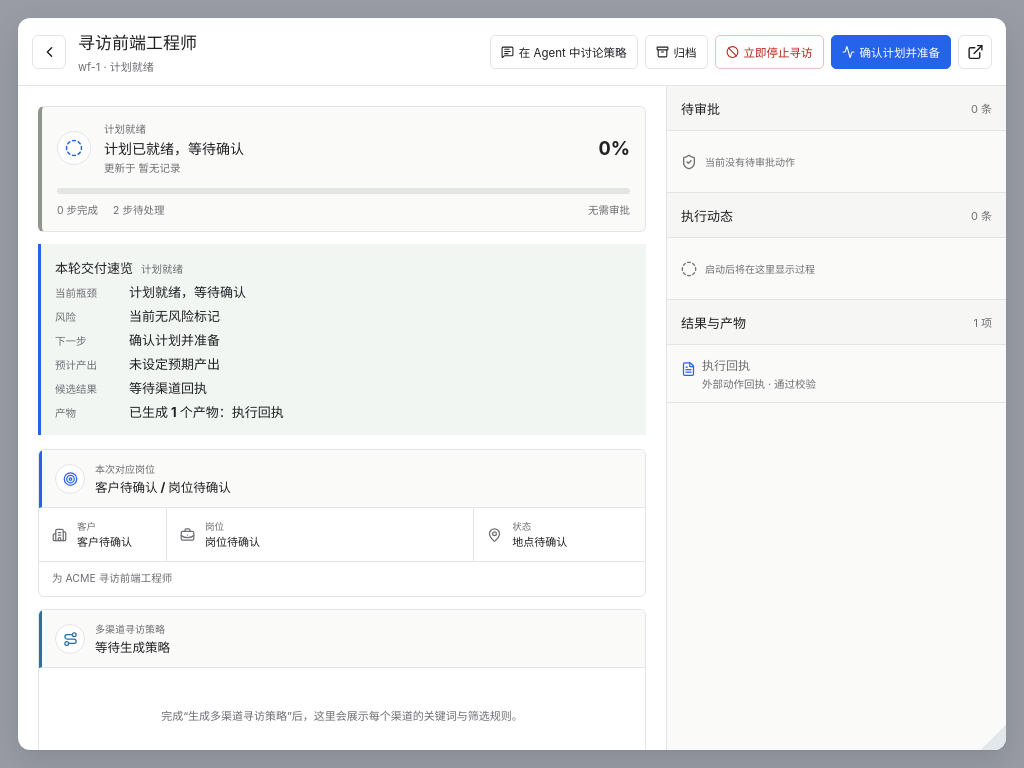
工作流产物查看 › 产物读取失败时显示站内错误回执
The width and height of the screenshot is (1024, 768).
Click the button with aria-label "查看产物：执行回执" at {"x": 726, "y": 366}, box [667,345,1006,403]
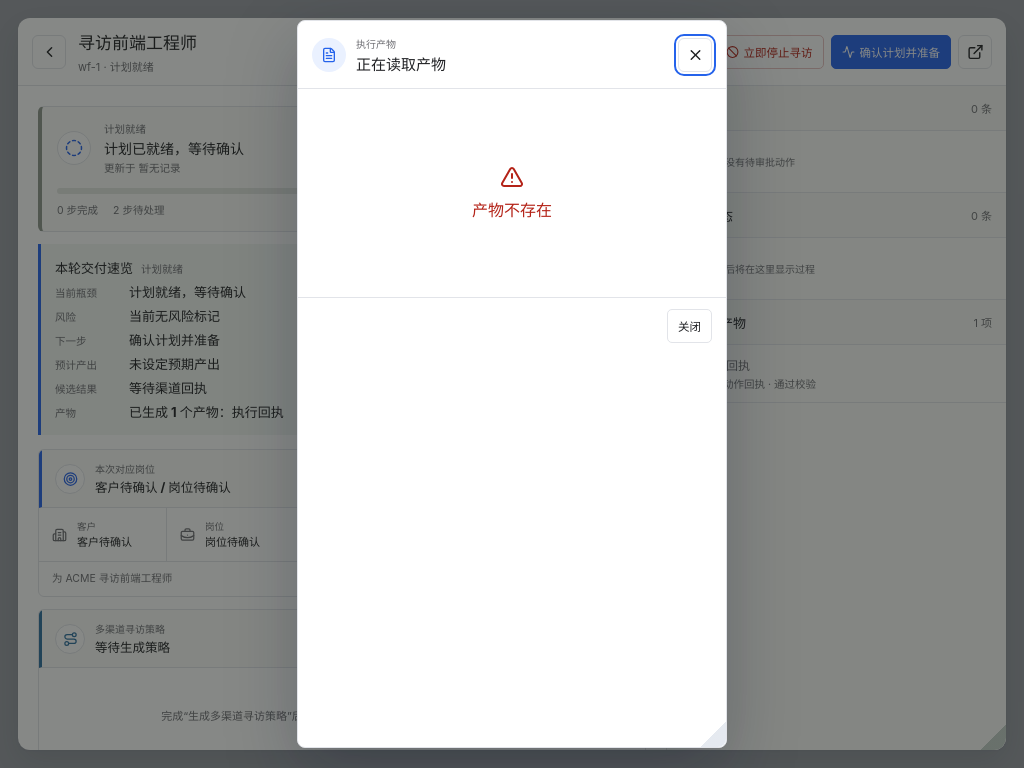
expect the message reads "产物不存在": met, box [472,200,552,220]
